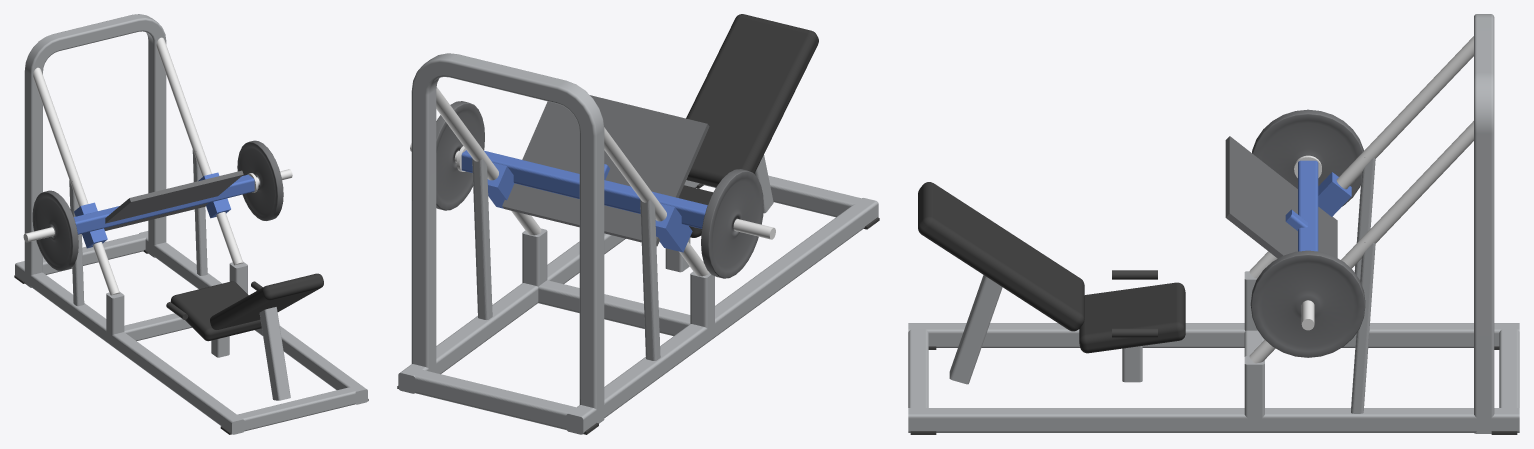
3 renders of one model, left to right at view 1: azimuth 30°, elevation 25°; view 2: azimuth 150°, elevation 25°; view 3: azimuth 270°, elevation 25°, orthographic. The views are drawn at different scales.
Parts seen in each view (by area): view 1: base, rear_arch_tube, carriage, rail (×2), frame, foot_plate, seat_pad, backrest_pad, carriage_beam, backrest, carriage_slider (×2), seat; view 2: base, rear_arch_tube, backrest_pad, foot_plate, carriage, frame, carriage_beam, rail (×2), carriage_slider (×2), seat_pad, plate_horn, backrest; view 3: base, carriage, backrest_pad, rear_arch_tube, foot_plate, rail (×2), seat_pad, frame, backrest, carriage_beam, carriage_slider, seat.
Boxes of the visible parts, x1,y1,x2,y2 form: base: (14, 231, 368, 434); rear_arch_tube: (24, 14, 166, 287); carriage: (32, 140, 283, 270); rail (×2): (33, 37, 243, 295); frame: (69, 149, 247, 337); foot_plate: (104, 170, 243, 230); seat_pad: (170, 281, 261, 341); backrest_pad: (210, 273, 323, 329); carriage_beam: (73, 174, 254, 234); backrest: (259, 307, 290, 400); carriage_slider (×2): (74, 172, 230, 248); seat: (211, 336, 229, 357); base: (397, 175, 879, 434); rear_arch_tube: (411, 53, 604, 423); backrest_pad: (686, 14, 818, 187); foot_plate: (502, 95, 709, 246); carriage: (436, 101, 763, 278); frame: (472, 158, 714, 360); carriage_beam: (461, 150, 707, 228); rail (×2): (436, 87, 708, 276); carriage_slider (×2): (487, 162, 692, 252); seat_pad: (678, 185, 713, 237); plate_horn: (733, 219, 775, 239); backrest: (754, 155, 773, 213); base: (908, 323, 1519, 434); carriage: (1250, 109, 1365, 357); backrest_pad: (918, 182, 1084, 331); rear_arch_tube: (1474, 14, 1494, 433); foot_plate: (1225, 136, 1337, 258); rail (×2): (1249, 36, 1473, 363); seat_pad: (1079, 282, 1185, 353); frame: (1244, 157, 1375, 424); backrest: (949, 275, 1002, 384); carriage_beam: (1298, 160, 1318, 251); carriage_slider: (1318, 172, 1351, 216); seat: (1122, 346, 1142, 382).
Size of the model in its own units: 1.69 by 1.48 by 2.4.
